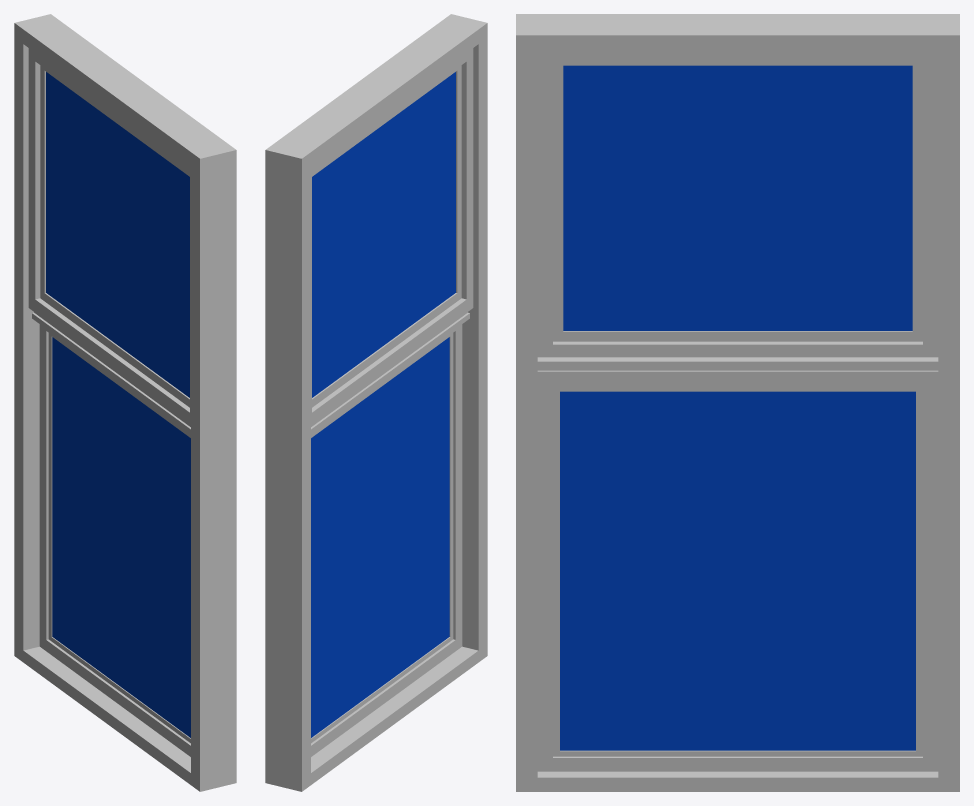
File: Window.fbx
3 renders of one model, left to right at view 1: azimuth 30°, elevation 25°; view 2: azimuth 150°, elevation 25°; view 3: azimuth 270°, elevation 25°, orthographic. The views are drawn at different scales.
Visible parts, largest first — view 1: Window; view 2: Window; view 3: Window.
Boxes of the visible parts, bbox=[...] form: Window: bbox=[14, 14, 236, 791]; Window: bbox=[265, 14, 487, 791]; Window: bbox=[516, 14, 959, 791].
Bounding box in the file's own units: 0.1096 × 1.82 × 0.9682.
